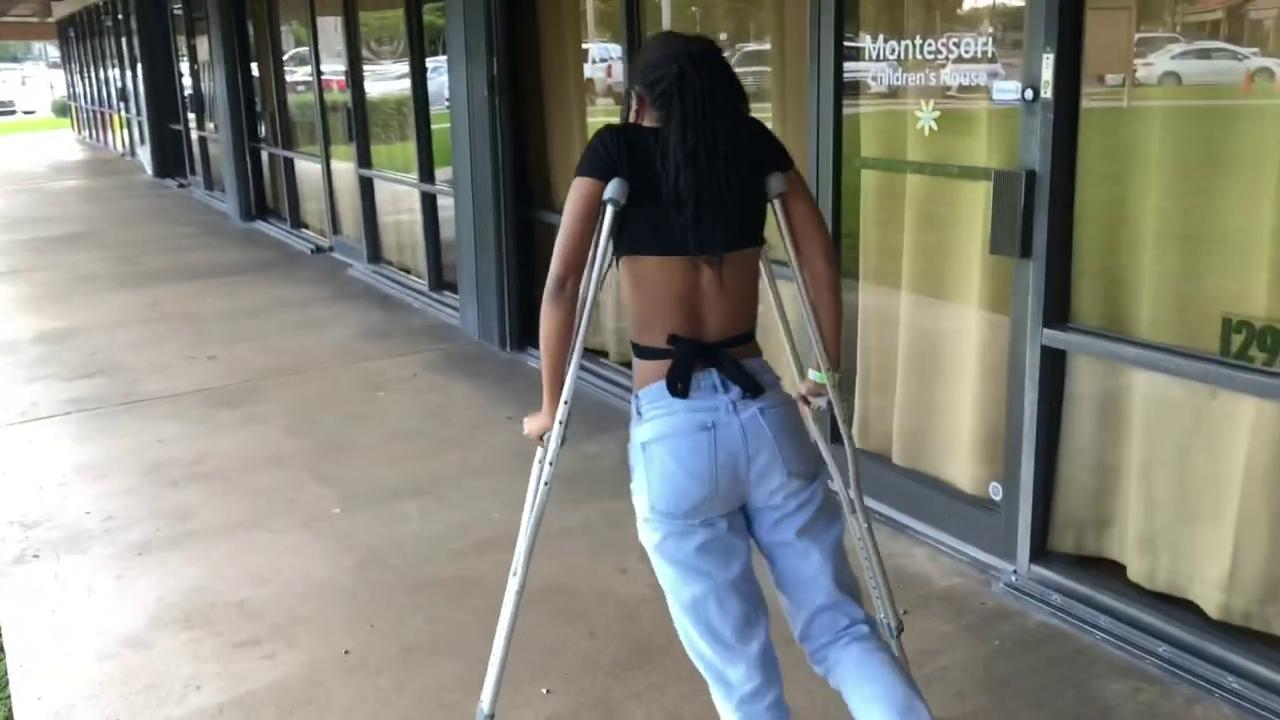crutches: (468, 31, 929, 719)
